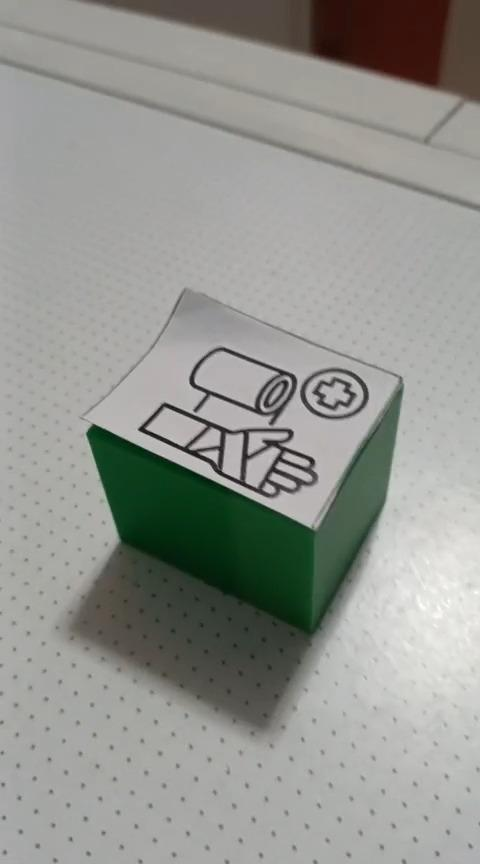Bandages: (78, 285, 404, 634)
